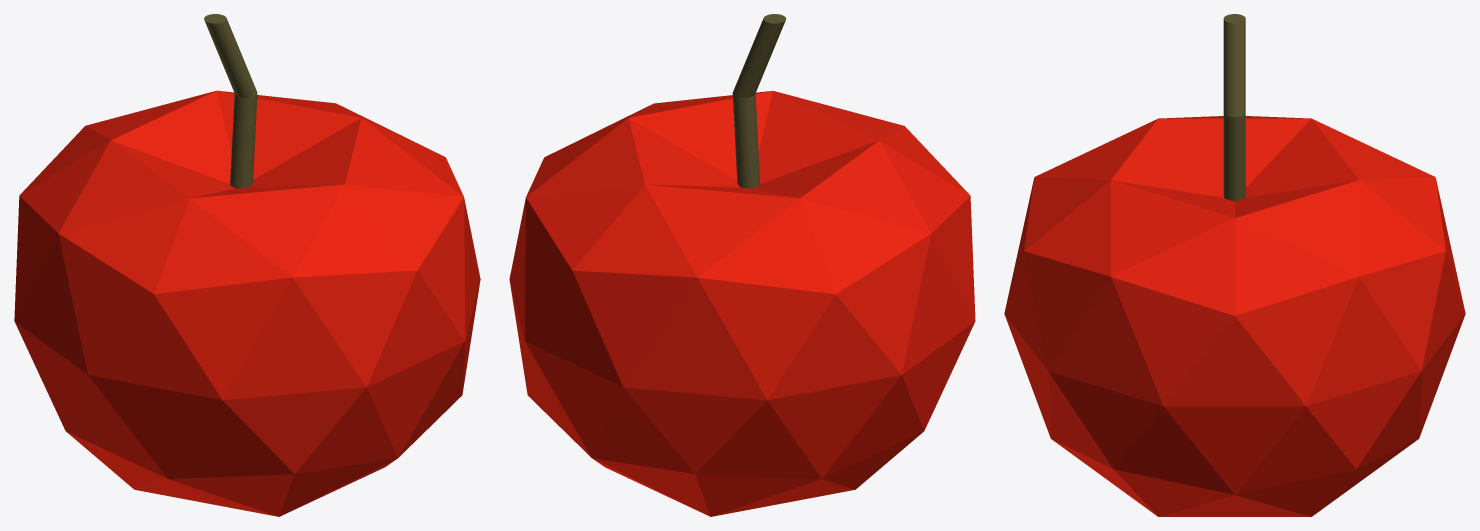
Rendered from apple.fbx.
3 renders of one model, left to right at view 1: azimuth 30°, elevation 25°; view 2: azimuth 150°, elevation 25°; view 3: azimuth 270°, elevation 25°, orthographic. The views are drawn at different scales.
Visible parts, largest first — view 1: Icosphere; view 2: Icosphere; view 3: Icosphere.
Boxes of the visible parts, box(x1,y1,x2,y2) form: Icosphere: box(14, 14, 480, 516); Icosphere: box(509, 14, 975, 516); Icosphere: box(1004, 14, 1465, 516).
Bounding box in the file's own units: 66.3 × 72.45 × 69.36.
